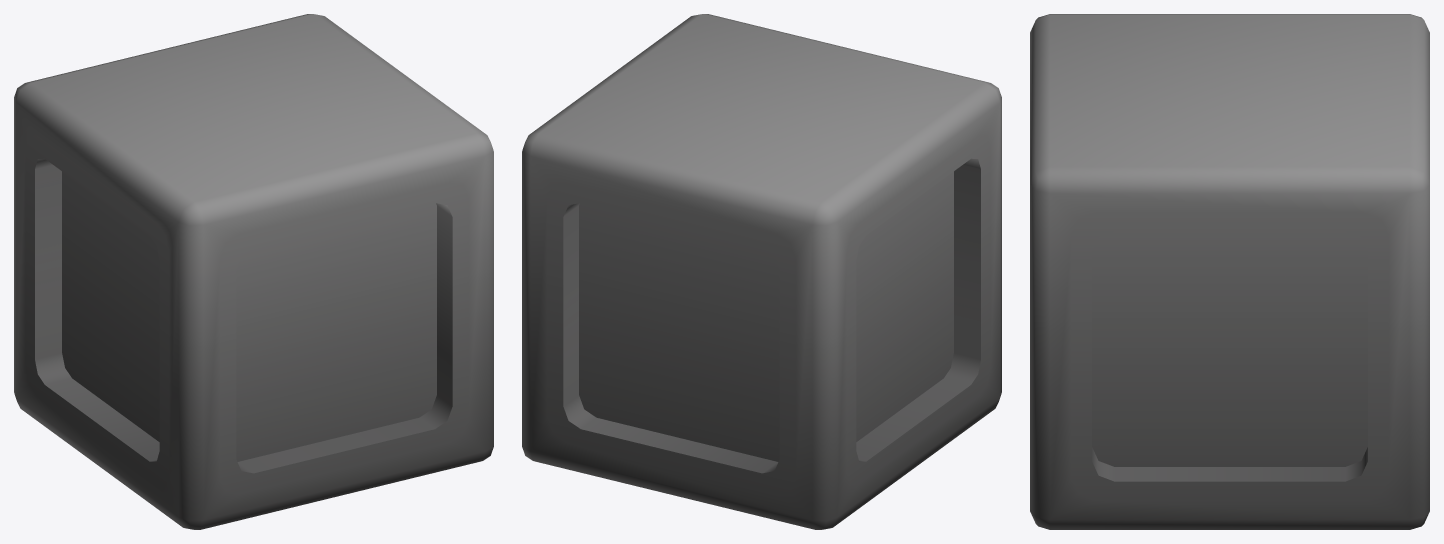
File: 3D_Tile_Dungeon_04.fbx
3 renders of one model, left to right at view 1: azimuth 30°, elevation 25°; view 2: azimuth 150°, elevation 25°; view 3: azimuth 270°, elevation 25°, orthographic. The views are drawn at different scales.
Parts seen in each view (by area): view 1: 3D_Tile_Dungeon_04; view 2: 3D_Tile_Dungeon_04; view 3: 3D_Tile_Dungeon_04.
Part boxes in pixels (<box>): 3D_Tile_Dungeon_04: <box>14,14,493,529</box>; 3D_Tile_Dungeon_04: <box>522,14,1001,529</box>; 3D_Tile_Dungeon_04: <box>1030,14,1429,529</box>.
Size of the model in its own units: 200 by 200 by 200.
